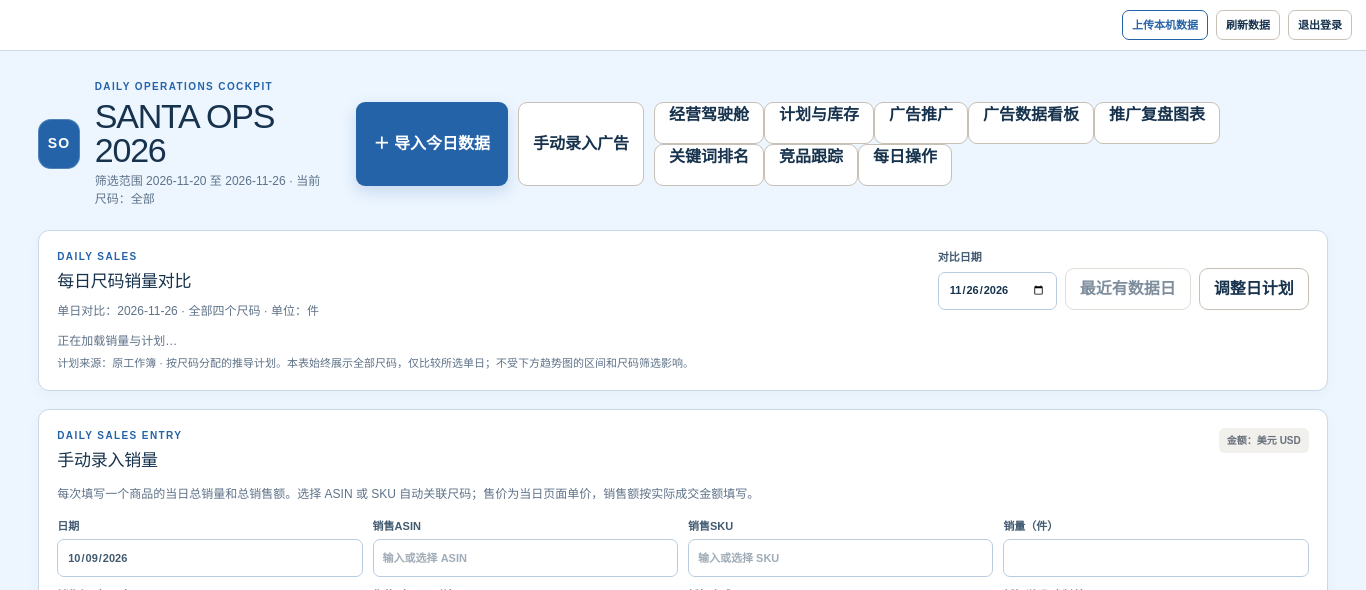
it: Santa Ops dashboard › opens the standalone advertising dashboard with import and manual entry from navigation
Click the button "广告数据看板": (1031, 122) [968, 102, 1094, 144]
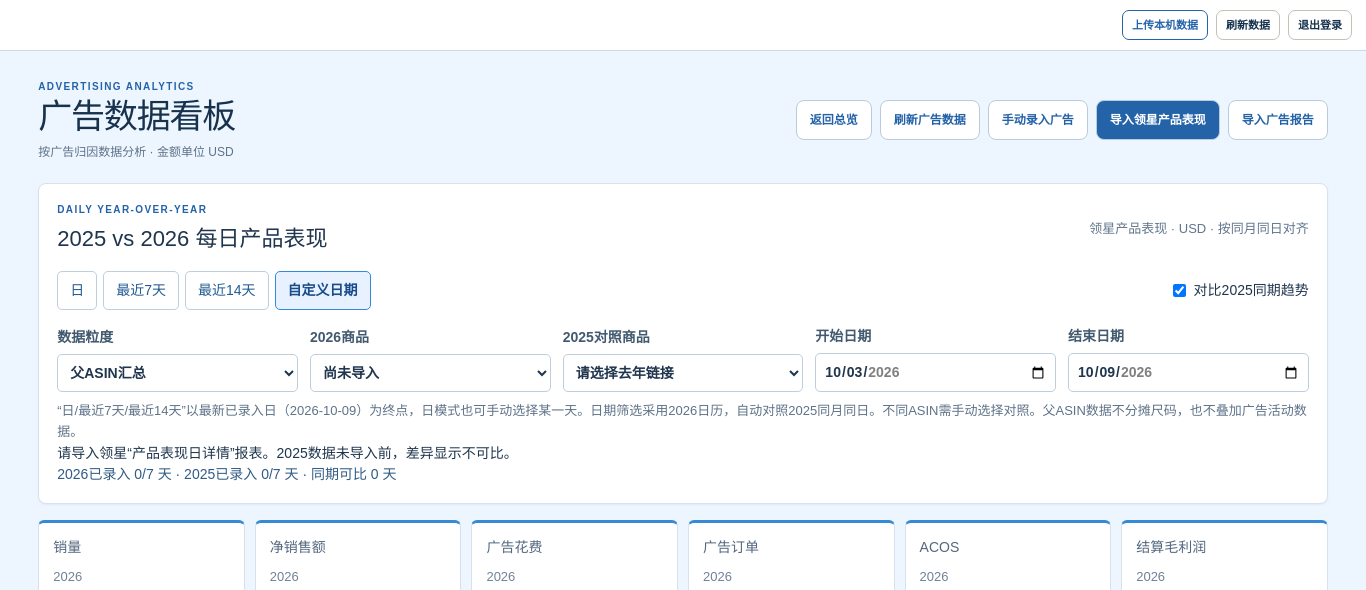
expect the heading "广告数据看板" is shown: met, box [38, 99, 235, 133]
Click the button "手动录入广告": (1038, 120) [988, 100, 1088, 140]
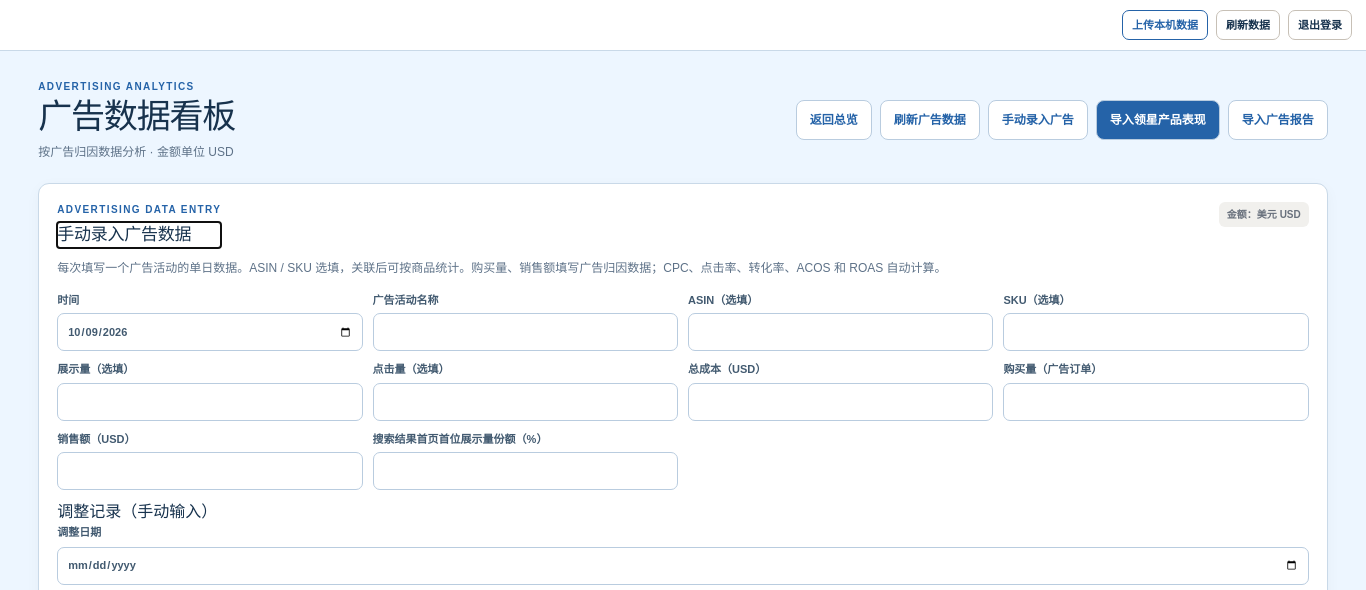
expect the heading "手动录入广告数据" is shown: met, box [57, 225, 191, 244]
Click the button "导入广告报告": (1278, 120) [1228, 100, 1328, 140]
(page scrolled)
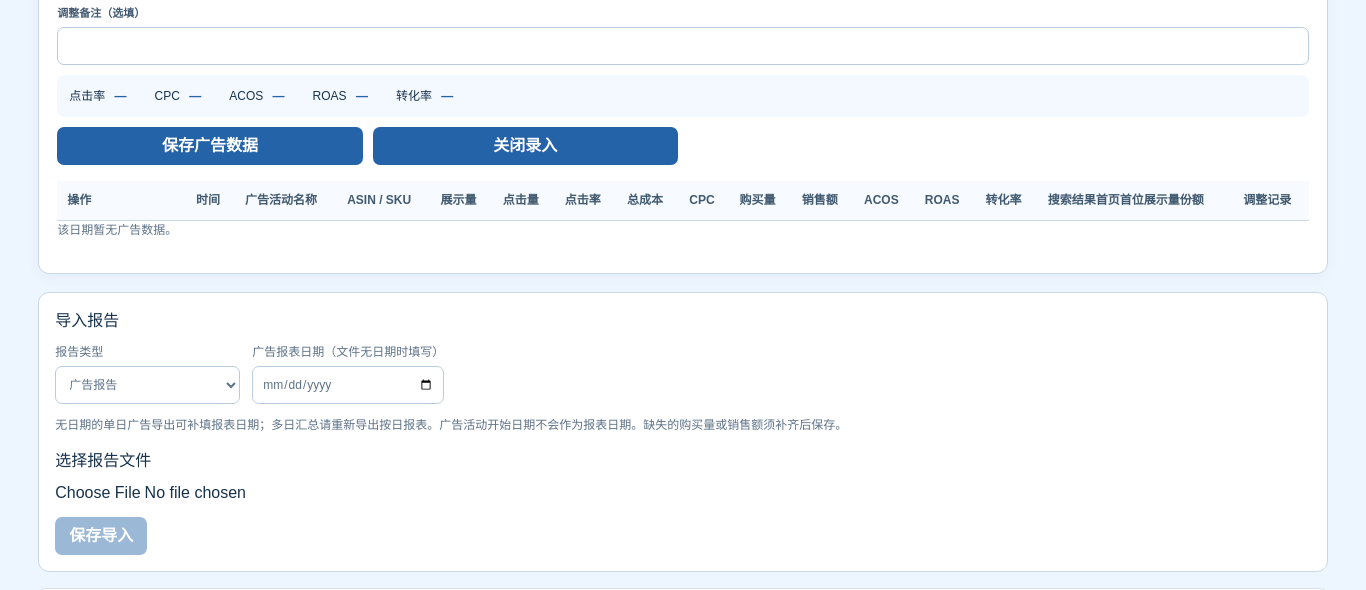
expect the dropdown labelled "报告类型" shows "广告报告": met, box [55, 366, 240, 404]
